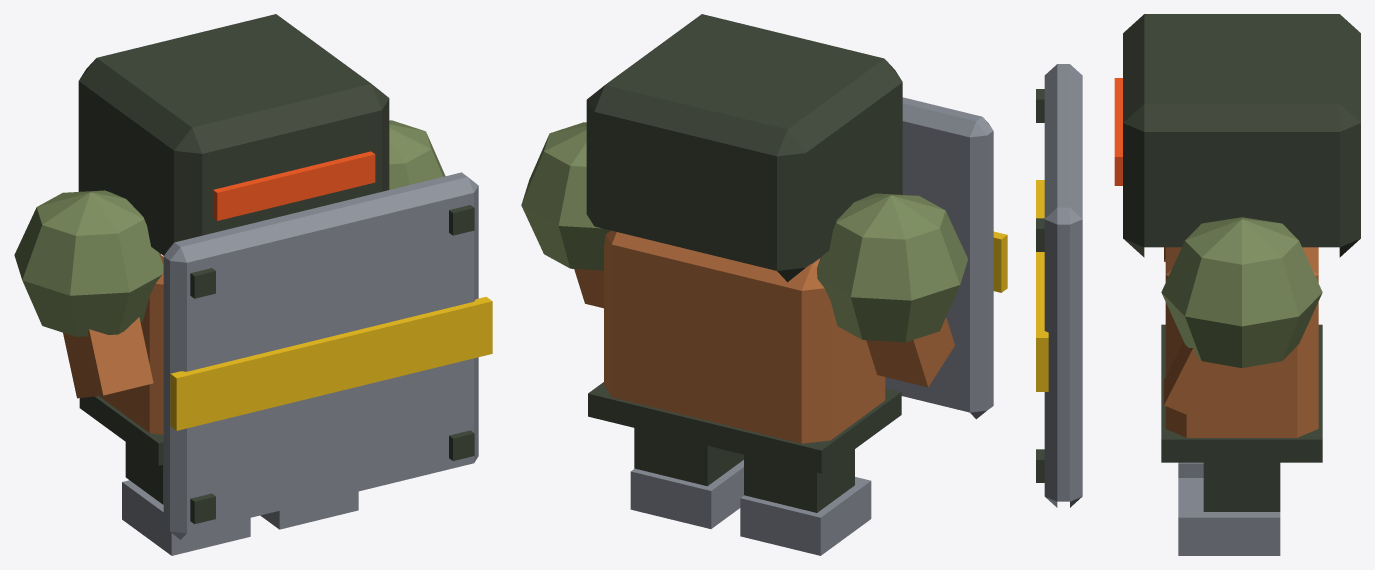
The model's file is brute_r7.glb.
The picture shows the model from 3 angles, left to right: view 1: azimuth 30°, elevation 25°; view 2: azimuth 150°, elevation 25°; view 3: azimuth 270°, elevation 25°; orthographic projection. The views are drawn at different scales.
Parts seen in each view (by area): view 1: brute_r7_mesh; view 2: brute_r7_mesh; view 3: brute_r7_mesh.
Boxes of the visible parts, x1,y1,x2,y2 form: brute_r7_mesh: (14, 14, 492, 555); brute_r7_mesh: (521, 14, 1007, 555); brute_r7_mesh: (1036, 14, 1360, 555).
Bounding box in the file's own units: 2.22 × 2.2 × 1.44.
1 material, 1 textured.
